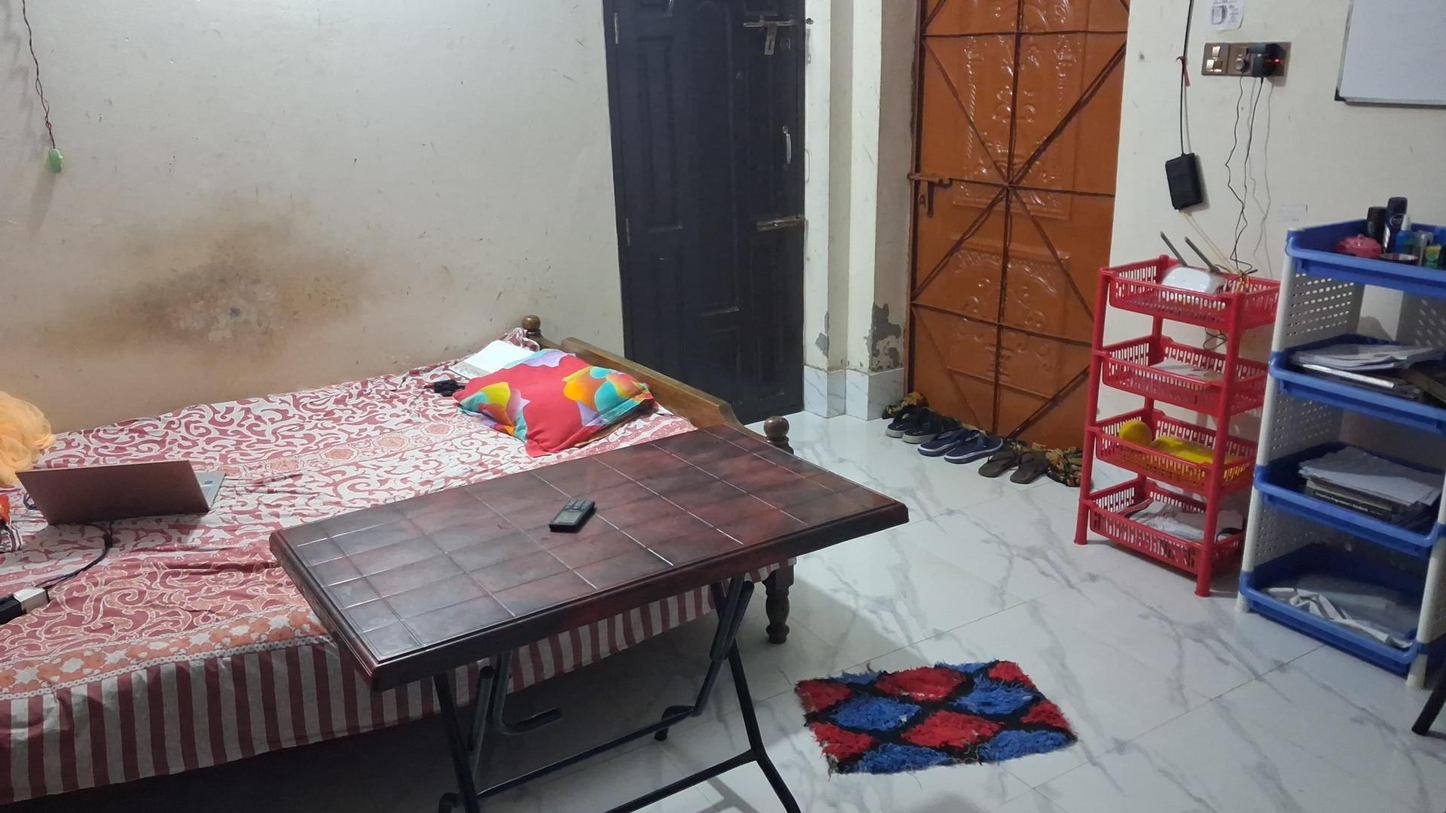Door: (587, 3, 823, 425), (910, 0, 1130, 426)
Floor Mat: (790, 643, 1087, 785)
Footwear: (978, 441, 1054, 486), (882, 403, 962, 442), (916, 427, 1004, 459)
Laptop: (5, 446, 228, 529)
Notebook: (443, 340, 531, 375)
Phone: (549, 496, 596, 532)
Pillow: (438, 352, 653, 457)
Rack: (1248, 193, 1446, 694), (1077, 218, 1266, 615)
Table: (269, 420, 933, 813)
